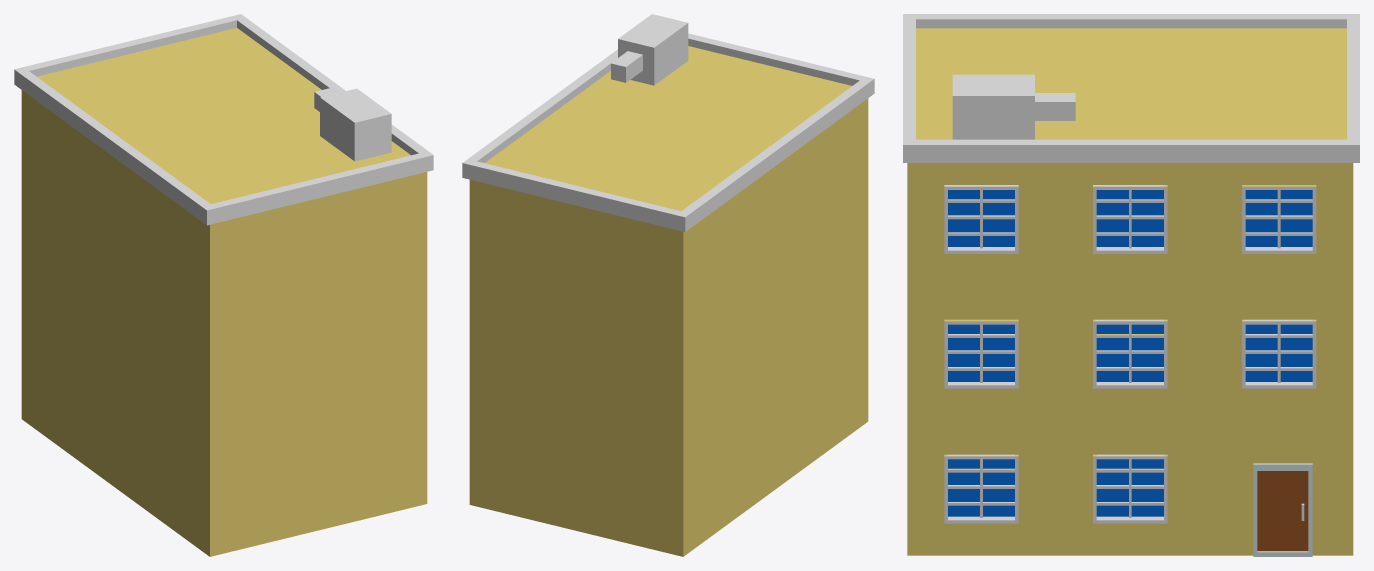
Rendered from NEWbuild 1.fbx.
3 renders of one model, left to right at view 1: azimuth 30°, elevation 25°; view 2: azimuth 150°, elevation 25°; view 3: azimuth 270°, elevation 25°, orthographic. The views are drawn at different scales.
Parts seen in each view (by area): view 1: Cube.009, Cube.001, Cube, Cube.011, Cube.010, Cube.015, Cube.007, Cube.008, Cube.002, Cube.003, Cube.013; view 2: Cube.011, Cube.008, Cube.007, Cube.010, Cube.009, Cube.015, Cube.004, Cube.001, Cube, Cube.002, Cube.003, Cube.013 (+1 smaller); view 3: Cube.010, Cube.011, Cube.009, Cube.015, Cube.008, Cube, Cube.001, Cube.002, Cube.003, Cube.004, Cube.013, Cube.006 (+2 smaller).
Part boxes in pixels (x1,y1,x2,y2): Cube.009: [147, 127, 427, 329]; Cube.001: [147, 276, 427, 442]; Cube: [147, 390, 427, 556]; Cube.011: [21, 28, 296, 236]; Cube.010: [84, 72, 321, 282]; Cube.015: [14, 14, 433, 225]; Cube.007: [21, 306, 84, 464]; Cube.008: [21, 192, 84, 350]; Cube.002: [84, 351, 146, 510]; Cube.003: [84, 238, 146, 396]; Cube.013: [320, 88, 391, 161]; Cube.011: [469, 125, 744, 333]; Cube.008: [469, 281, 744, 444]; Cube.007: [576, 400, 744, 556]; Cube.010: [536, 80, 806, 287]; Cube.009: [598, 46, 868, 242]; Cube.015: [462, 33, 874, 231]; Cube.004: [469, 393, 576, 530]; Cube.001: [806, 198, 868, 354]; Cube: [806, 310, 868, 466]; Cube.002: [745, 355, 806, 511]; Cube.003: [745, 243, 806, 399]; Cube.013: [618, 14, 688, 85]; Cube.010: [1056, 28, 1204, 285]; Cube.011: [1204, 28, 1353, 285]; Cube.009: [907, 28, 1055, 285]; Cube.015: [903, 14, 1359, 162]; Cube.008: [1204, 286, 1353, 420]; Cube: [907, 421, 1055, 555]; Cube.001: [907, 286, 1055, 420]; Cube.002: [1056, 421, 1204, 555]; Cube.003: [1056, 286, 1204, 420]; Cube.004: [1204, 421, 1353, 555]; Cube.013: [952, 74, 1034, 139]; Cube.006: [1257, 471, 1308, 550].
Size of the model in its own units: 417 by 668 by 614.
